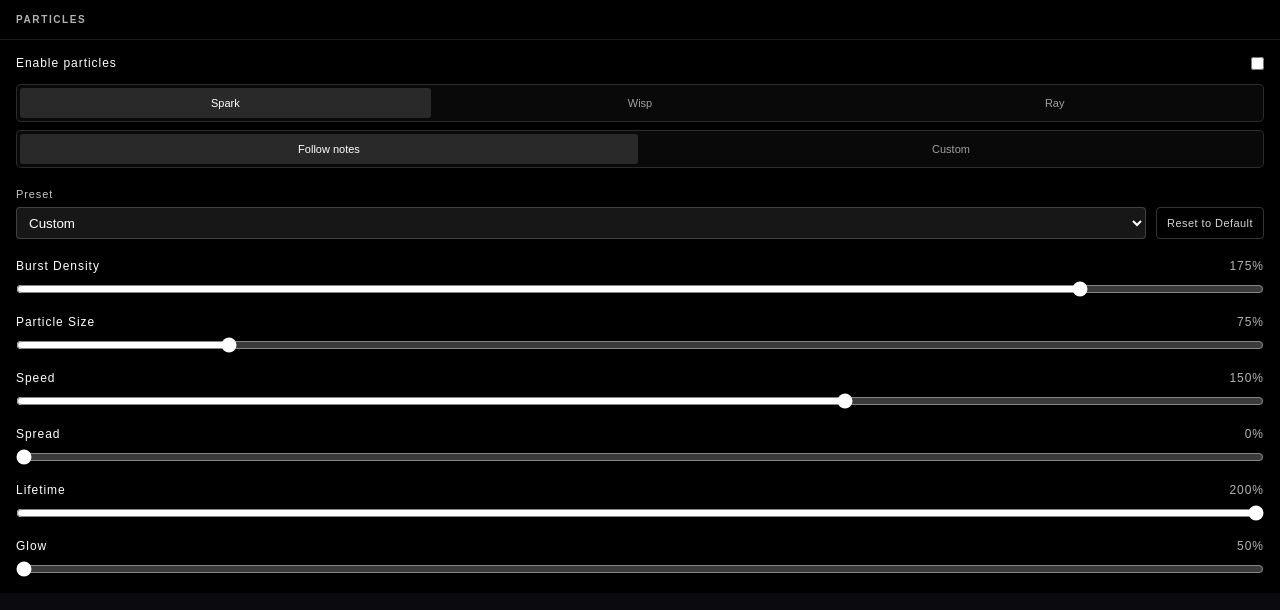
Test case: ParticlesPanel › resets all particle settings to the default preset
The image size is (1280, 610).
Click the button "Reset to Default".
click(1210, 223)  # box 1156,207 -> 1264,239
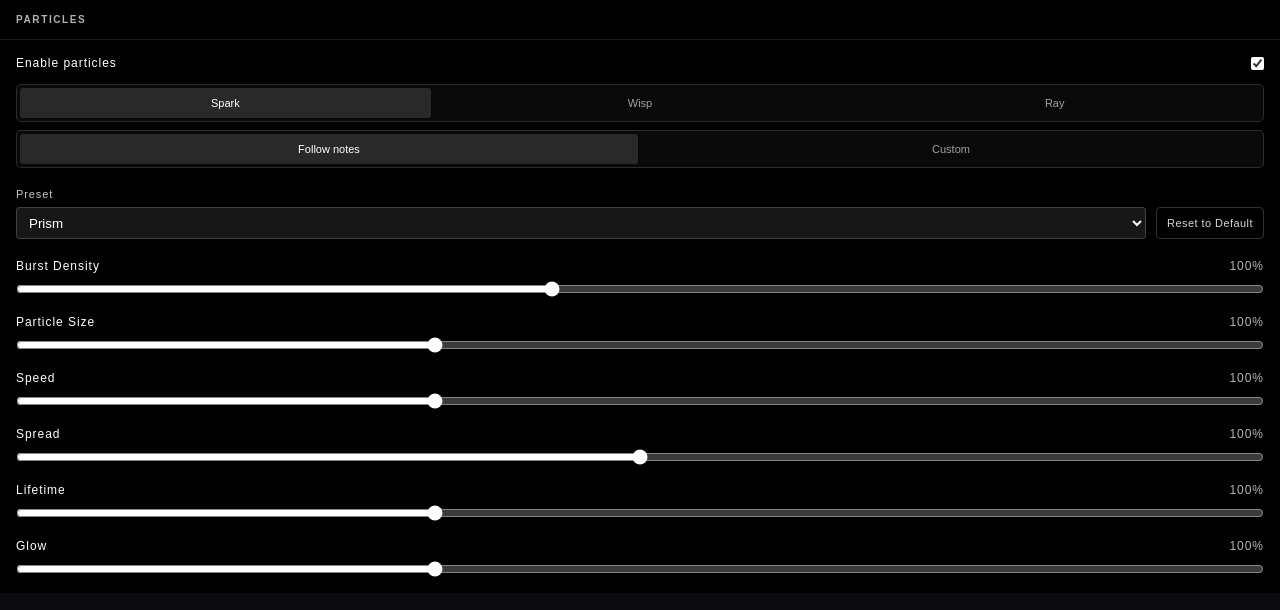
expect the dropdown named "Particle preset" shows "Prism": met, box 16,207 -> 1146,239
